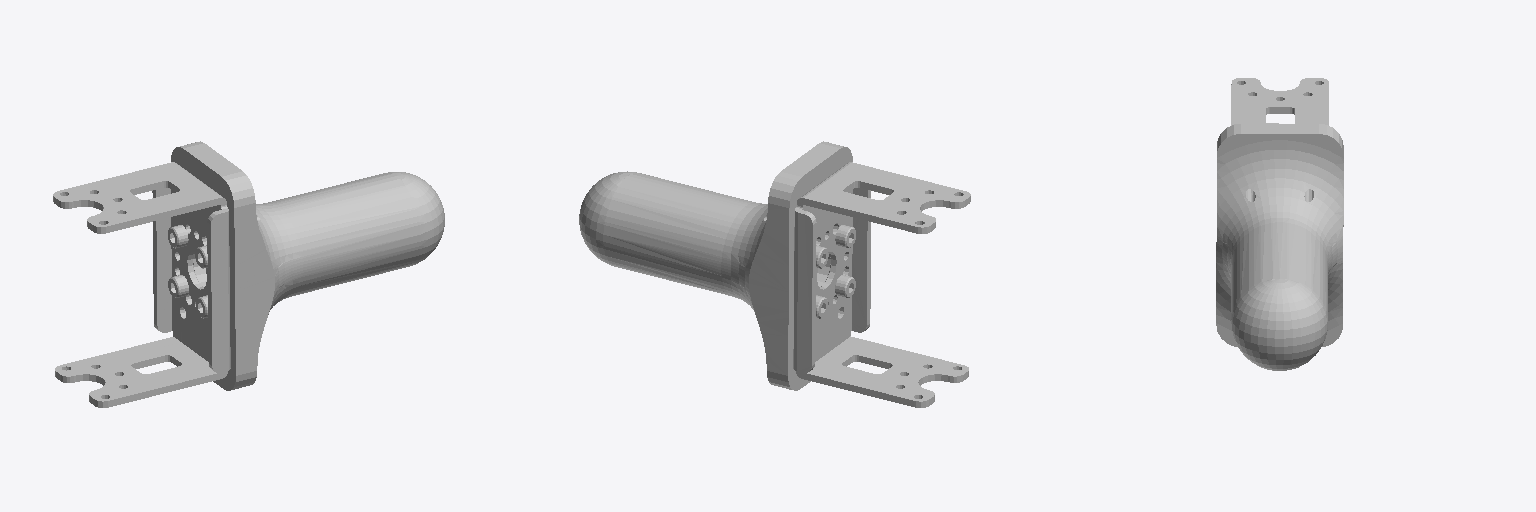
3 views of the same model, side by side, from view 1: azimuth 30°, elevation 25°; view 2: azimuth 150°, elevation 25°; view 3: azimuth 270°, elevation 25° (orthographic).
Parts seen in each view (by area): view 1: link_3; view 2: link_3; view 3: link_3.
Boxes of the visible parts, x1=… form: link_3: x1=53, y1=141, x2=444, y2=407; link_3: x1=579, y1=141, x2=970, y2=407; link_3: x1=1216, y1=78, x2=1343, y2=370.
Size of the model in its own units: 0.0863 by 0.0483 by 0.0261.